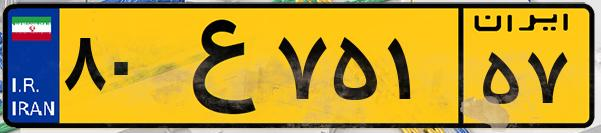0: (110, 28, 158, 98)
1: (385, 28, 445, 110)
5: (330, 28, 385, 110), (475, 38, 525, 113)
7: (270, 28, 330, 110), (525, 38, 570, 115)
8: (57, 26, 110, 100)
ع: (158, 12, 270, 120)
